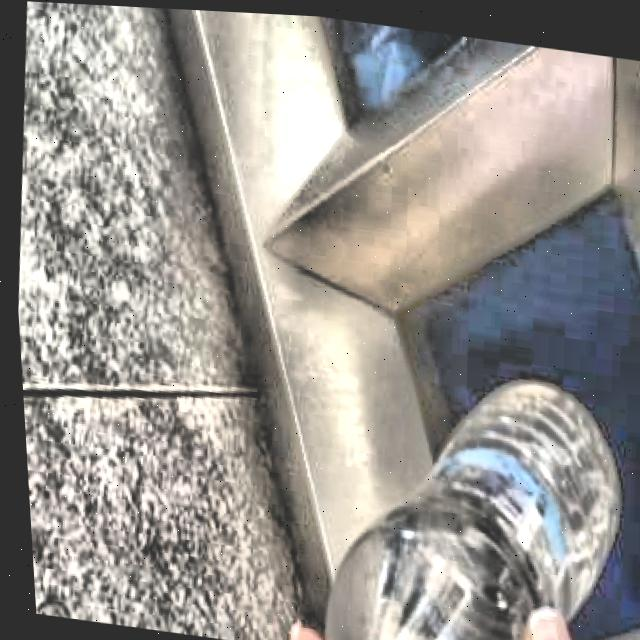plastic: (319, 375, 615, 640)
